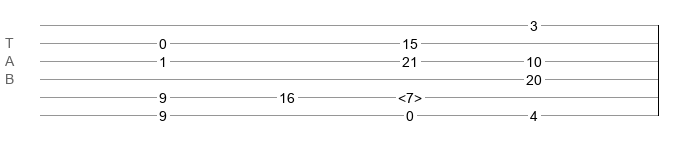0: (159, 36, 167, 46), (406, 108, 414, 118)
1: (159, 54, 167, 64)
10: (526, 54, 542, 64)
15: (402, 36, 418, 46)
16: (279, 90, 295, 100)
20: (526, 72, 542, 82)
21: (402, 54, 418, 64)
3: (530, 18, 538, 28)
4: (530, 108, 538, 118)
9: (159, 90, 167, 100), (159, 108, 167, 118)
harmonic: (398, 90, 422, 100)
